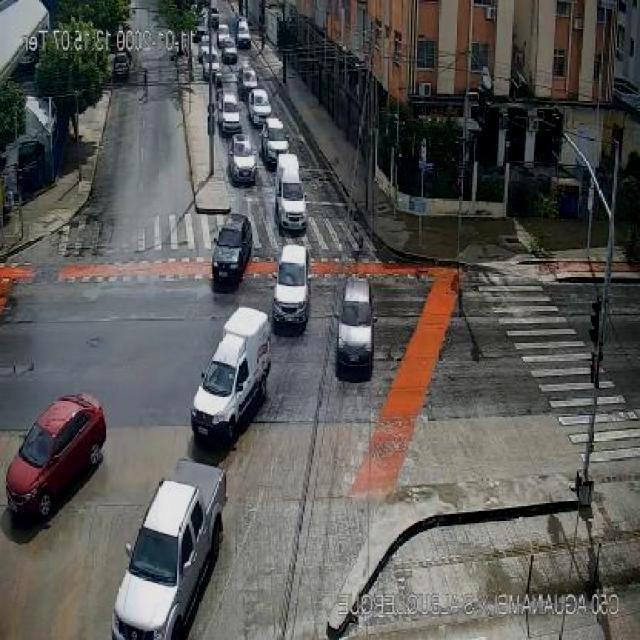Car: (111, 458, 225, 638), (5, 396, 106, 520), (334, 279, 374, 380), (271, 245, 311, 330), (211, 213, 254, 287), (228, 135, 258, 184), (260, 120, 290, 168), (218, 95, 242, 133), (247, 88, 271, 126), (239, 68, 259, 102), (112, 52, 130, 80)
Truck: (186, 307, 272, 447), (274, 158, 306, 231)
